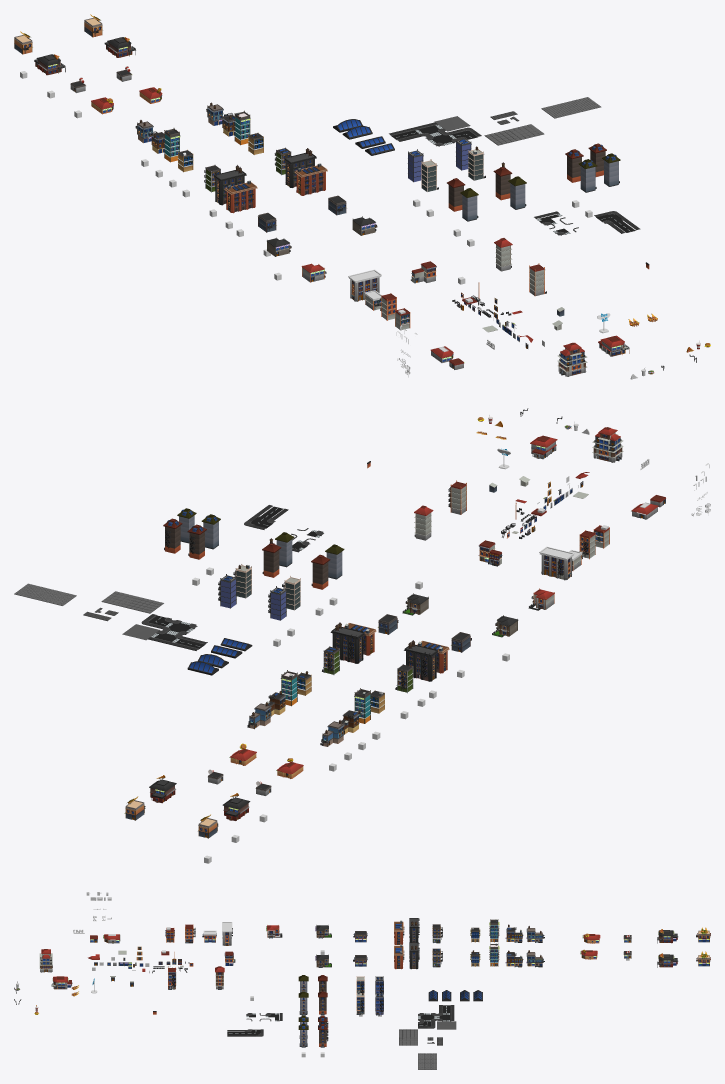
File: Buildings1.glb
3 views of the same model, one above another, from view 1: azimuth 30°, elevation 25°; view 2: azimuth 150°, elevation 25°; view 3: azimuth 270°, elevation 25° (orthographic). The views are drawn at different scales.
Parts seen in each view (by area): view 1: WorkBuilding2, WorkBuilding2.1; view 2: WorkBuilding2.1; view 3: no part large enough to name.
Boxes of the visible parts, x1,y1,x2,y2 form: WorkBuilding2: [294, 163, 327, 195]; WorkBuilding2.1: [283, 148, 316, 187]; WorkBuilding2.1: [330, 622, 365, 663].
Bounding box in the file's own units: 181 × 30.18 × 366.
3 materials, 2 textured.
